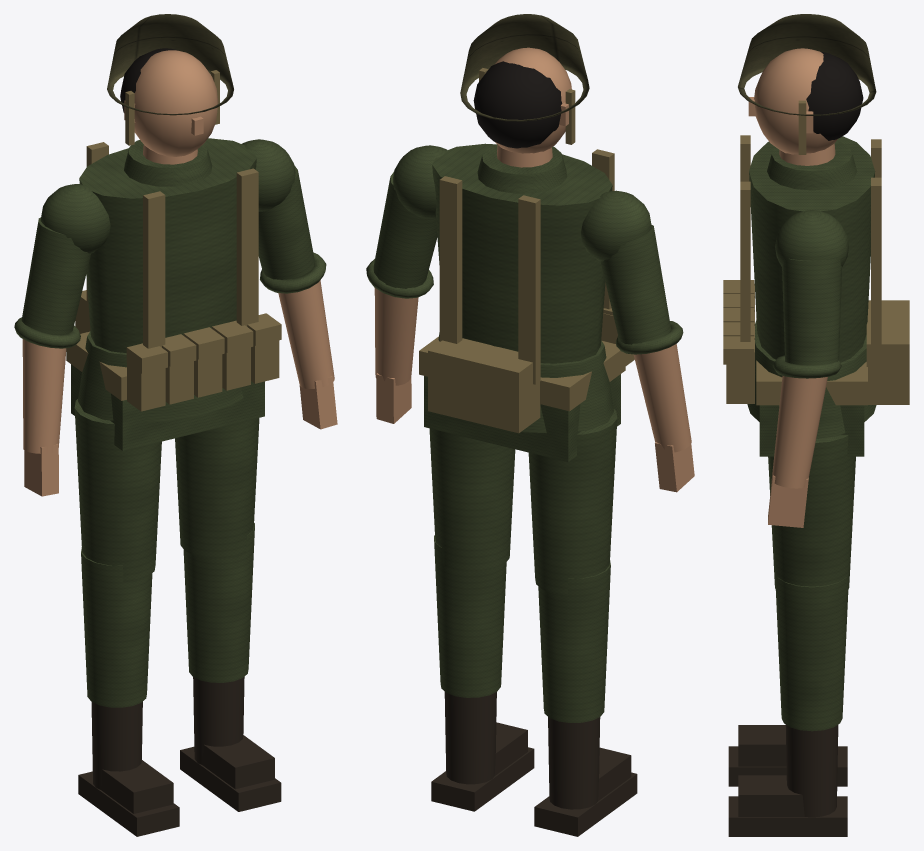
Rendered from arvn_infantry_lod0.glb.
3 views of the same model, side by side, from view 1: azimuth 30°, elevation 25°; view 2: azimuth 150°, elevation 25°; view 3: azimuth 270°, elevation 25° (orthographic).
Visible parts, largest first — view 1: ARVN_Infantry; view 2: ARVN_Infantry; view 3: ARVN_Infantry.
Boxes of the visible parts, left/top/right/bottom form: ARVN_Infantry: left=14, top=14, right=337, bottom=836; ARVN_Infantry: left=366, top=14, right=694, bottom=836; ARVN_Infantry: left=723, top=14, right=909, bottom=836.
Bounding box in the file's own units: 0.7554 × 1.8 × 0.3915.
6 materials, 2 textured.
